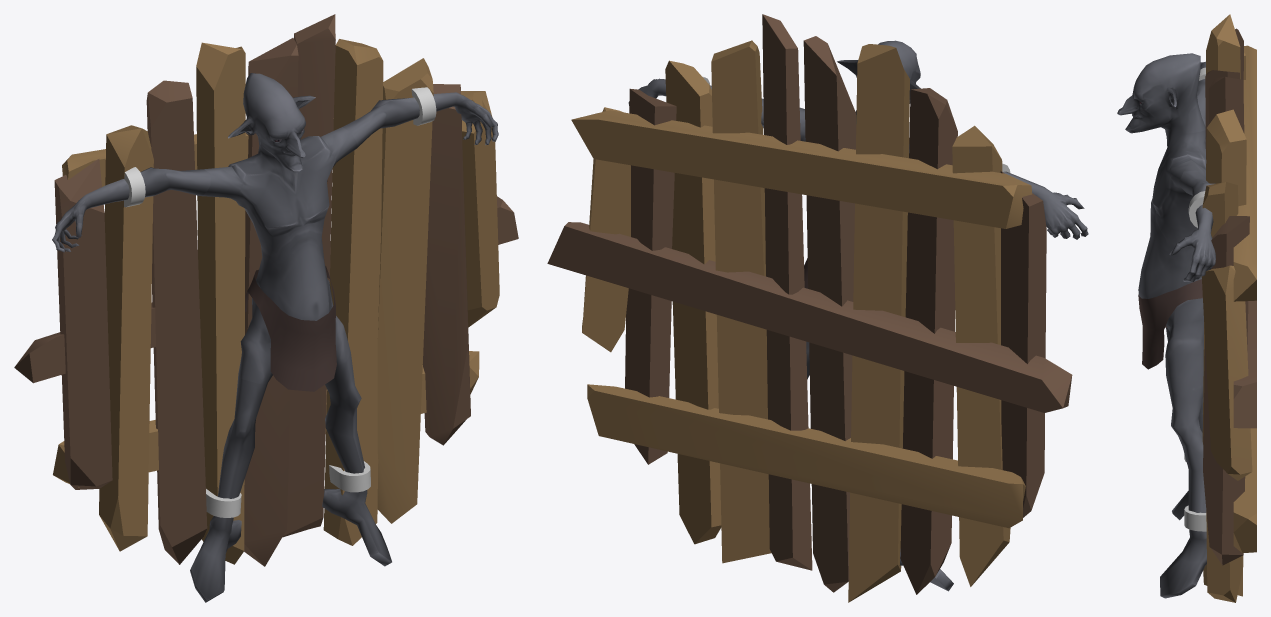
Rendered from Small Jotunn Target.fbx.
The picture shows the model from 3 angles, left to right: view 1: azimuth 30°, elevation 25°; view 2: azimuth 150°, elevation 25°; view 3: azimuth 270°, elevation 25°; orthographic projection. The views are drawn at different scales.
Visible parts, largest first — view 1: Target Main.003, Target Main.001, Target Main.002, SmJot Body Torso, SmJot Body Leg.R, Target Main, SmJot C Pants 01, SmJot Body Leg.L, SmJot Body Head, SmJot Body Arm.R, SmJot Body Arm.L; view 2: Target Main, Target Main.003, Target Main.001, Target Main.002, SmJot Body Arm.R, SmJot Body Head; view 3: Target Main.002, SmJot Body Torso, Target Main, Target Main.003, SmJot Body Head, SmJot Body Leg.L, SmJot C Pants 01, SmJot Body Arm.L, SmJot Body Leg.R, Target Main.001, SmJot Body Arm.R.
Part boxes in pixels (x1,y1,x2,y2): Target Main.003: (196, 14, 383, 566); Target Main.001: (54, 80, 207, 564); Target Main.002: (377, 58, 499, 523); SmJot Body Torso: (200, 127, 357, 384); SmJot Body Leg.R: (190, 374, 267, 602); Target Main: (14, 91, 518, 487); SmJot C Pants 01: (245, 266, 336, 391); SmJot Body Leg.L: (322, 353, 391, 566); SmJot Body Head: (228, 73, 315, 172); SmJot Body Arm.R: (52, 167, 210, 252); SmJot Body Arm.L: (343, 92, 498, 148); Target Main: (547, 110, 1072, 528); Target Main.003: (711, 14, 909, 602); Target Main.001: (900, 88, 1046, 594); Target Main.002: (582, 60, 721, 544); SmJot Body Arm.R: (1003, 171, 1088, 239); SmJot Body Head: (837, 40, 920, 123); Target Main.002: (1188, 182, 1252, 602); SmJot Body Torso: (1138, 117, 1206, 379); Target Main: (1233, 45, 1256, 553); Target Main.003: (1184, 14, 1246, 596); SmJot Body Head: (1117, 53, 1205, 138); SmJot Body Leg.L: (1160, 375, 1206, 598); SmJot C Pants 01: (1138, 279, 1202, 369); SmJot Body Arm.L: (1169, 170, 1215, 281); SmJot Body Leg.R: (1172, 397, 1203, 520); Target Main.001: (1199, 28, 1245, 82); SmJot Body Arm.R: (1197, 61, 1205, 119).
Size of the model in its own units: 201 by 209 by 51.18.
